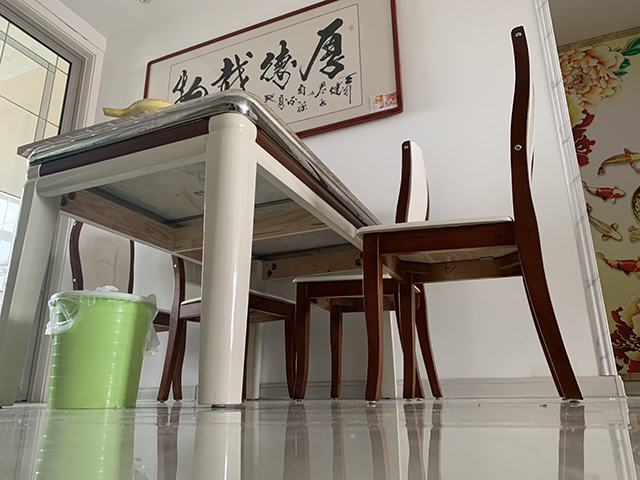stool: (355, 24, 585, 405), (291, 139, 446, 407), (156, 254, 297, 404)
table: (1, 88, 400, 410)
trashcan: (46, 290, 158, 411)
